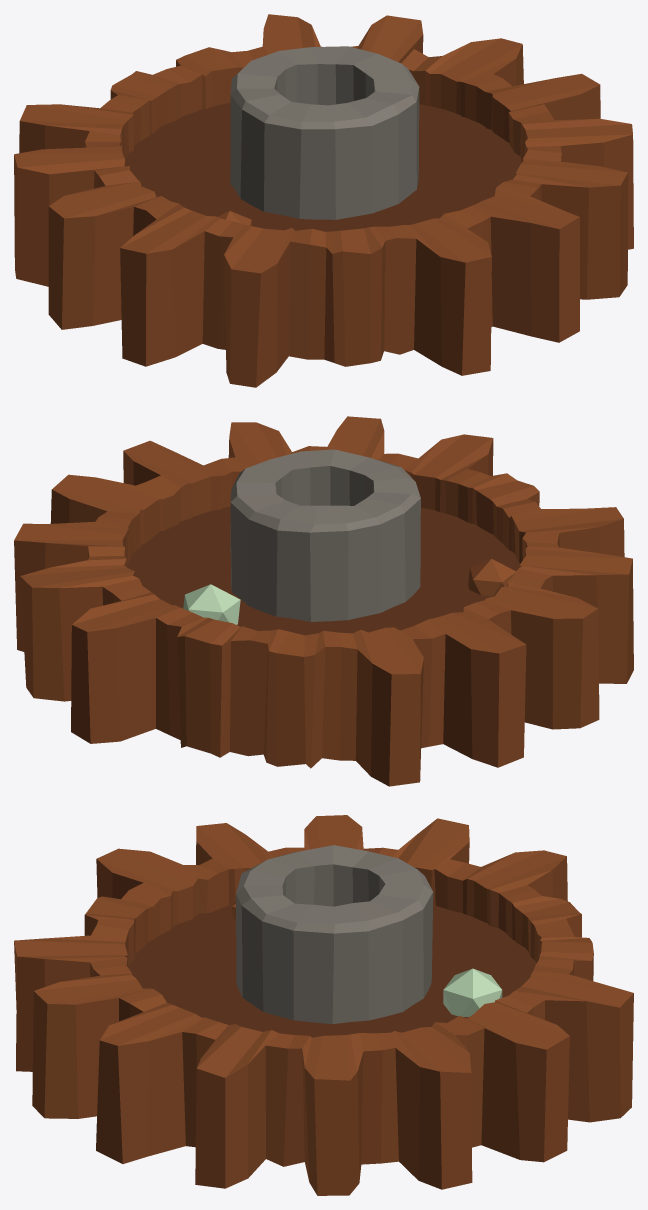
Rendered from gear_scrap.glb.
3 views of the same model, one above another, from view 1: azimuth 30°, elevation 25°; view 2: azimuth 150°, elevation 25°; view 3: azimuth 270°, elevation 25° (orthographic). The views are drawn at different scales.
Parts seen in each view (by area): view 1: gear_scrap; view 2: gear_scrap; view 3: gear_scrap.
Part boxes in pixels (box(x1,y1,x2,y2)): gear_scrap: box(14, 14, 633, 387); gear_scrap: box(14, 416, 633, 786); gear_scrap: box(14, 815, 633, 1195).
Size of the model in its own units: 0.1104 by 0.0349 by 0.1075.
